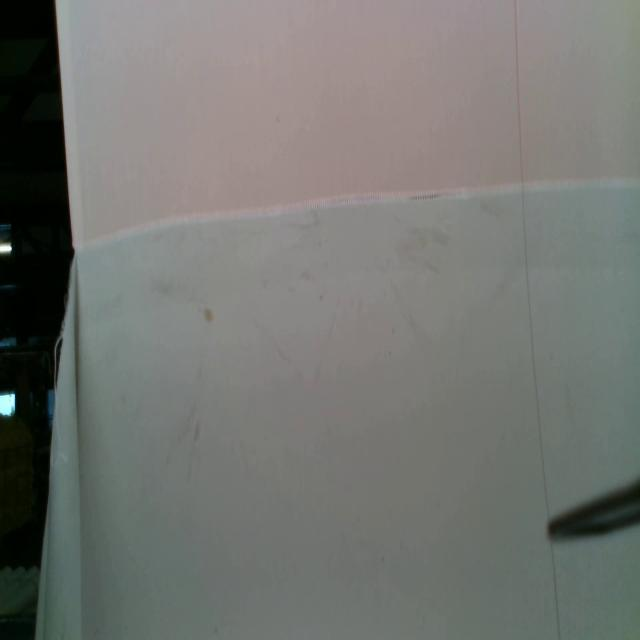crease: (512, 1, 560, 640)
